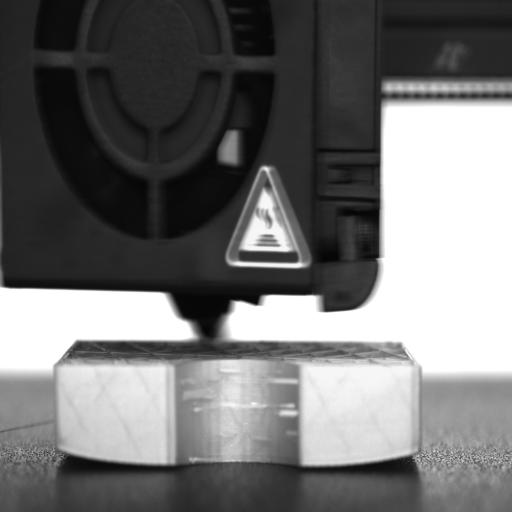warp: (328, 442, 424, 474), (50, 439, 122, 467)
